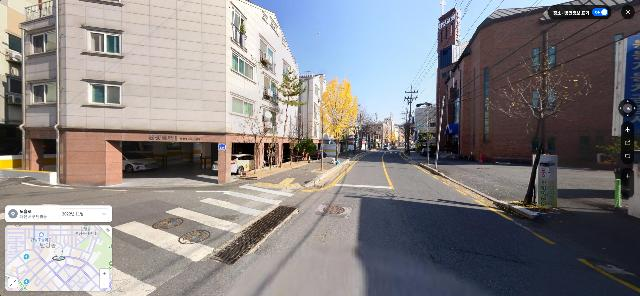ginkgo: (317, 75, 363, 165), (382, 119, 396, 150)
other: (491, 50, 593, 207), (275, 68, 305, 169), (236, 103, 278, 174), (309, 97, 333, 171), (289, 113, 312, 163), (348, 108, 366, 159), (413, 128, 436, 167), (359, 112, 373, 155), (367, 118, 381, 153), (296, 139, 317, 161)
